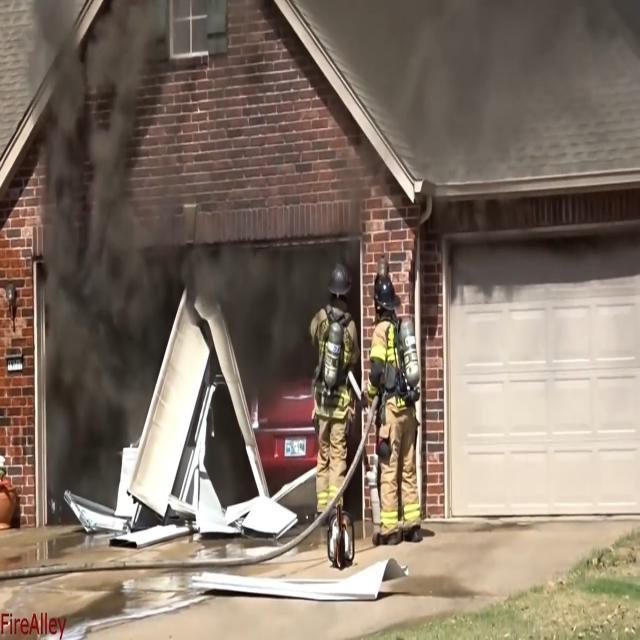Smoke: (39, 40, 153, 429), (218, 254, 306, 374)
